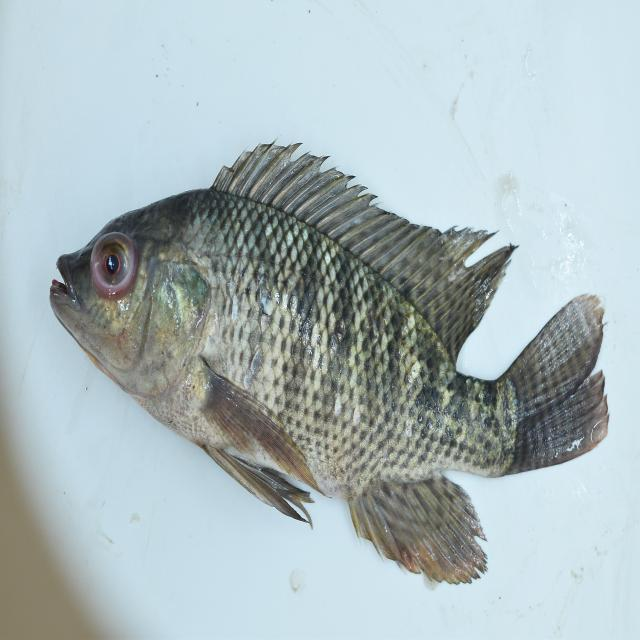Columnaris Disease: (28, 138, 615, 590)
